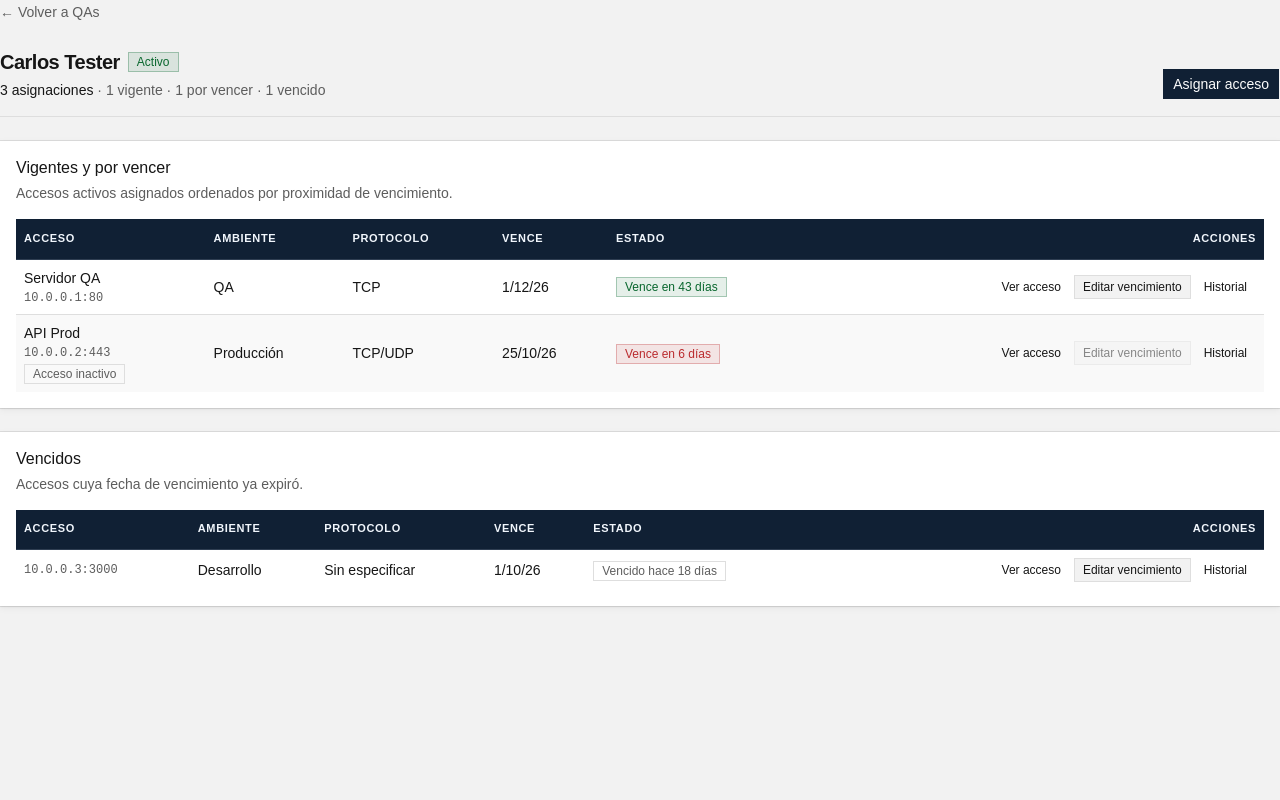
Test case: AccessesQaDetailPage › permite ver detalle del acceso en diálogo
The image size is (1280, 800).
expect the heading "Carlos Tester" is shown: met, box [0,48,120,76]
Click the button with aria-label "Ver acceso 10.0.0.1:80" at (1031, 286), box [993,274,1070,298]
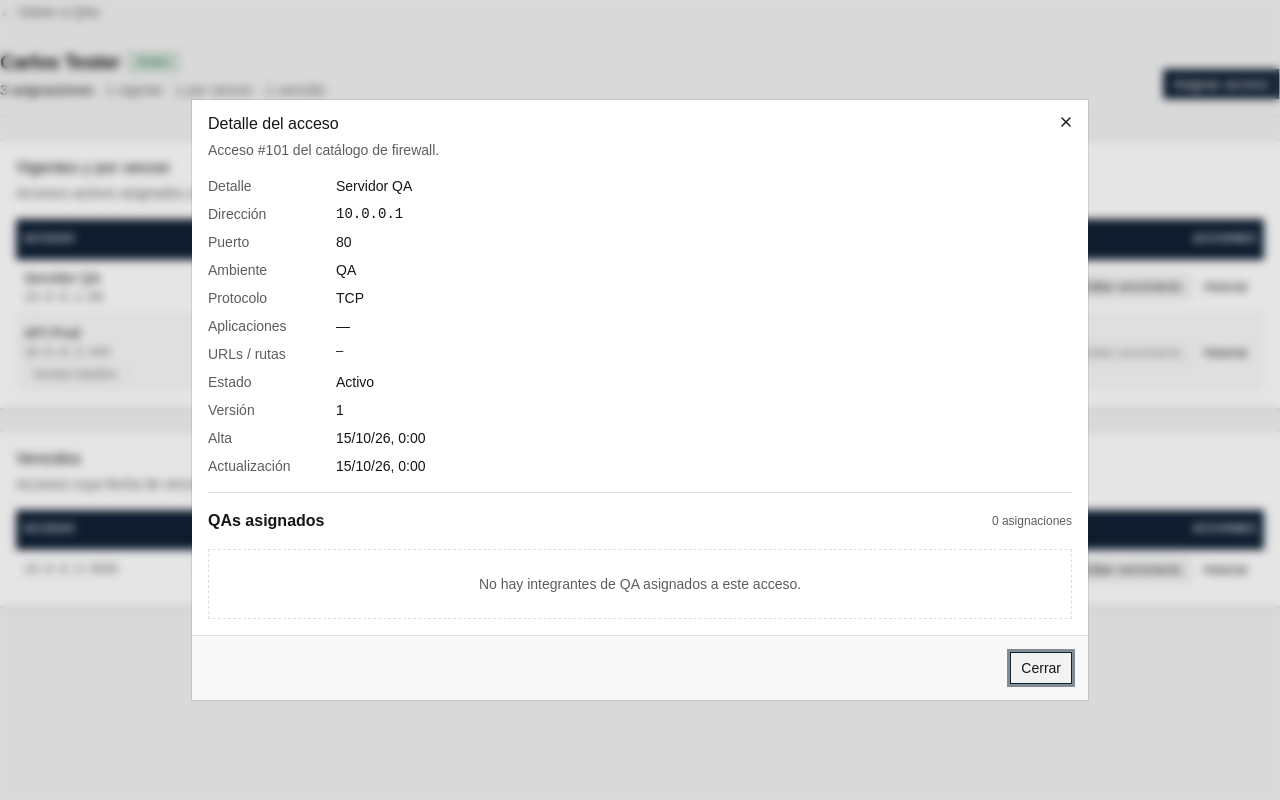
expect the dialog is shown: met, box [192,100,1088,700]
expect the heading "Detalle del acceso" is shown: met, box [208,115,339,132]
expect the text "Acceso #101 del catálogo de firewall." is shown: met, box [208,142,439,158]
